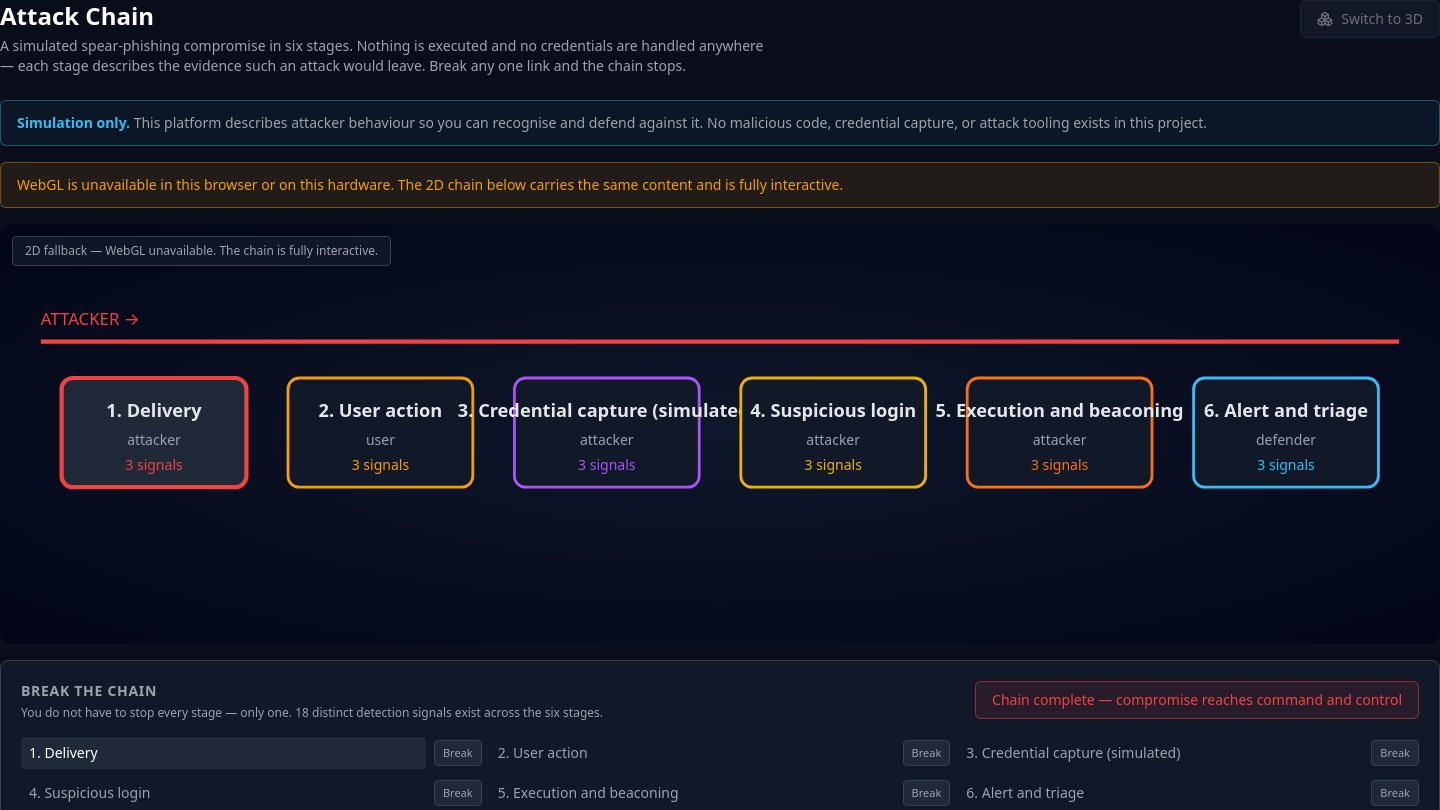
Test: AttackChainView › shows evidence, detection, and the mapped defence layer for a stage
Click the button "5. Execution and beaconing" at (596, 792), box x1=490 y1=777 x2=895 y2=809
(page scrolled)
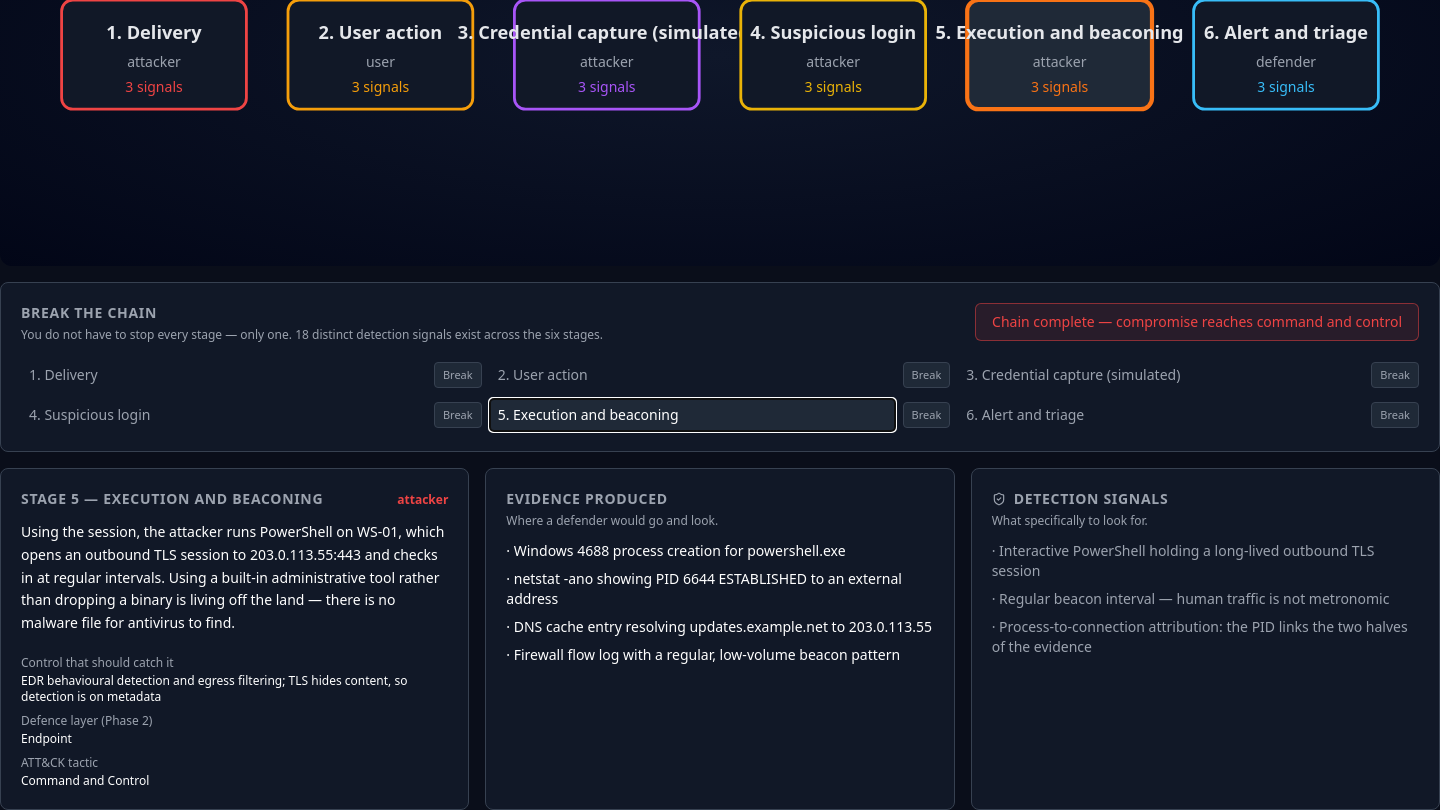
Expected: the heading "Evidence produced" is shown, x1=506 y1=489 x2=668 y2=508
Result: the list item "netstat -ano showing PID 6644" is shown at x1=506 y1=569 x2=902 y2=608
Result: the text "Command and Control" is shown at x1=21 y1=772 x2=149 y2=789
